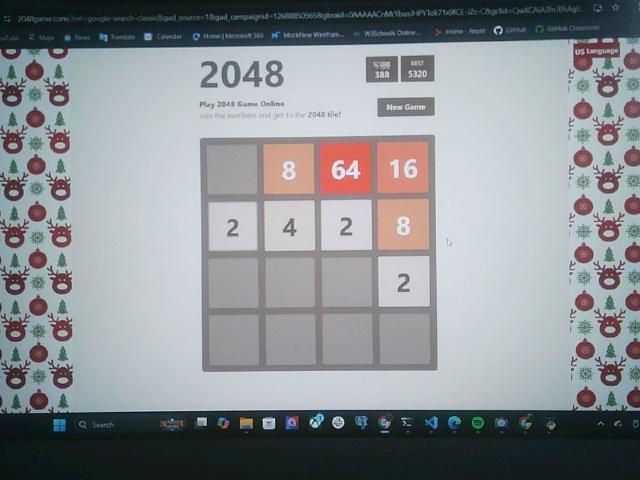best_score_box: (401, 55, 435, 81)
board: (201, 137, 437, 371)
button: (377, 97, 434, 118)
score_box: (366, 57, 398, 82)
tile: (321, 199, 373, 251), (378, 199, 431, 250), (265, 200, 316, 252), (379, 256, 430, 307), (209, 200, 258, 253), (321, 143, 371, 194), (264, 144, 314, 194), (377, 143, 427, 192)
